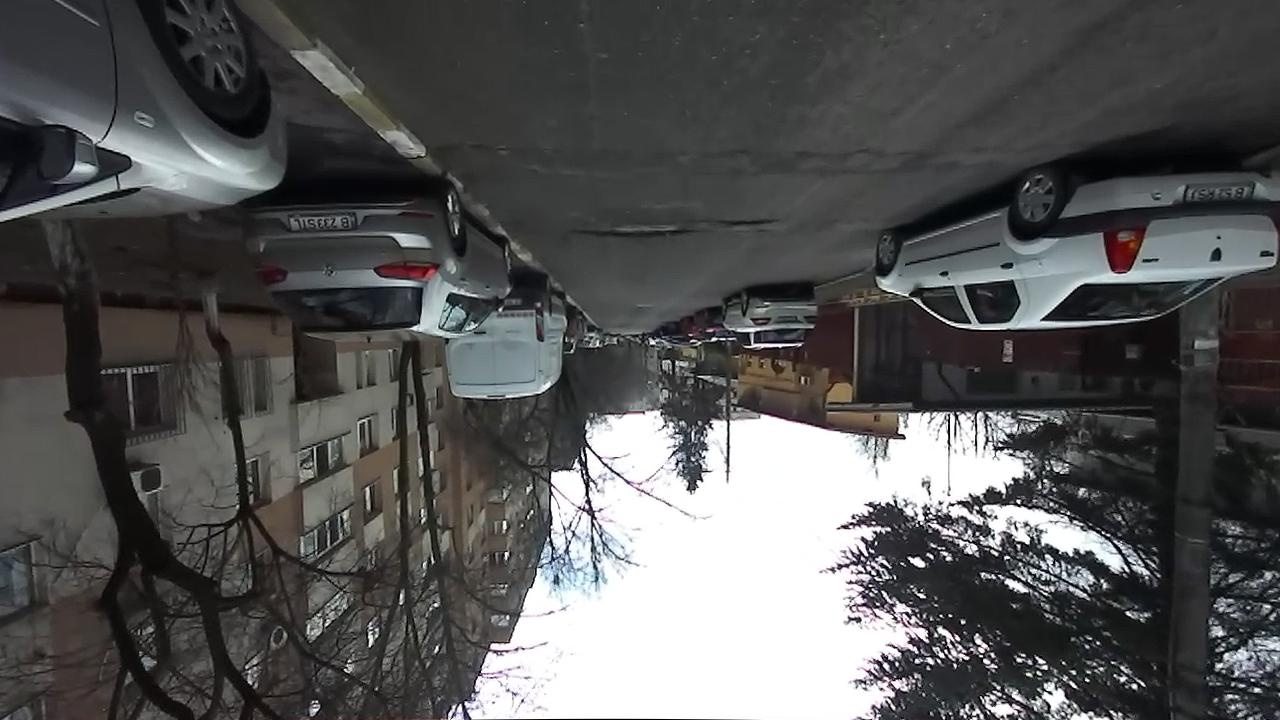pothole: (565, 218, 698, 241), (436, 134, 512, 156), (705, 215, 781, 229)
